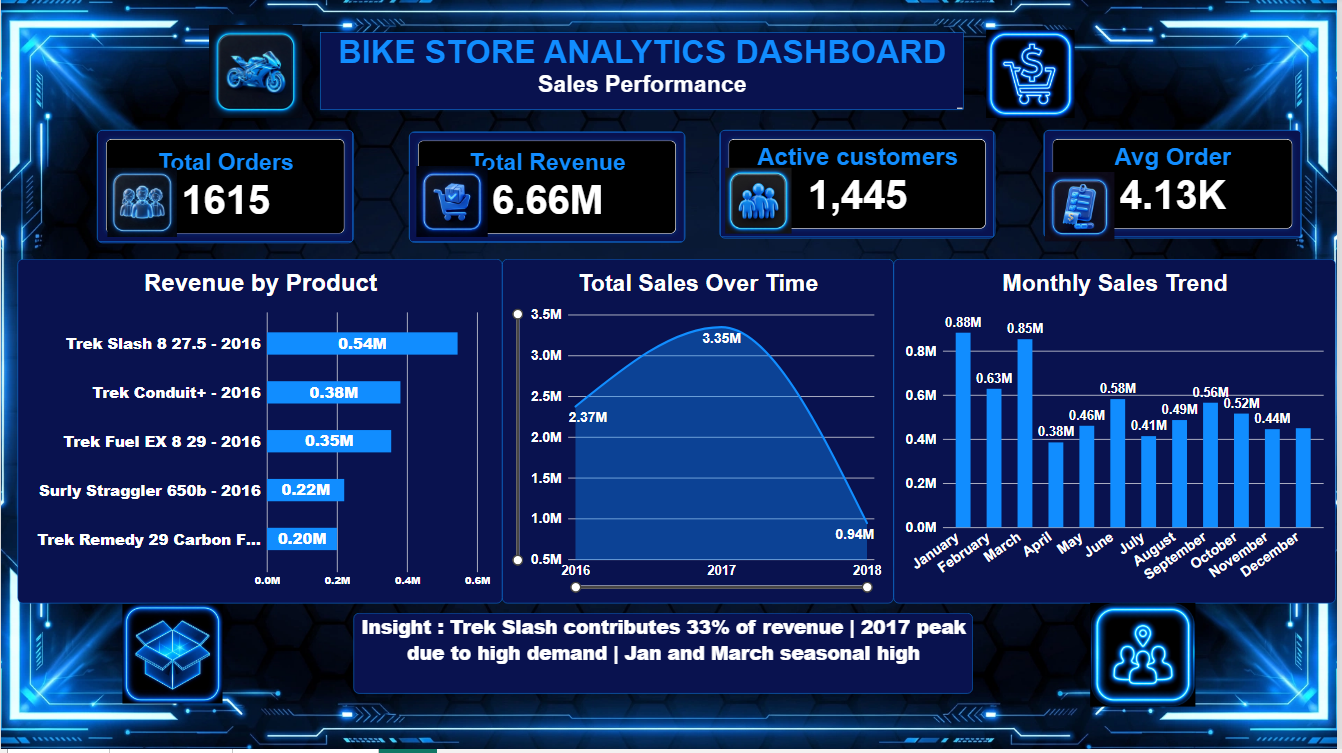

The page's visual inventory and layout, read from the dashboard file:
{"tool":"powerbi","page":{"name":"Sales","canvas":[1920,1080],"ordinal":0},"visuals":[{"type":"cardVisual","fields":{"Data":["brands.Total Revenue"]},"box":[586.7,192,397.5,160],"z":0},{"type":"cardVisual","fields":{"Data":["brands.Total Orders Text"]},"box":[138.1,189.8,369.2,162.8],"z":1000},{"type":"lineChart","title":"Total Sales Over Time","fields":{"Category":["new.order_date.Variation.Date Hierarchy.Year","new.order_date.Variation.Date Hierarchy.Month"],"Y":["brands.Total Revenue"]},"box":[720,374.8,563.3,495.1],"z":2000},{"type":"clusteredColumnChart","title":"Monthly Sales Trend","fields":{"Category":["new.order_date.Variation.Date Hierarchy.Month","new.order_date.Variation.Date Hierarchy.Day"],"Y":["brands.Total Revenue"]},"box":[1283.3,374.8,636,495.1],"z":3000},{"type":"textbox","title":"BIKE STORE ANALYTICS DASHBOARD","box":[458.8,50,924.4,111.3],"z":4000},{"type":"cardVisual","title":"Active Customers","fields":{"Data":["brands.Active customers full"]},"box":[1033.3,189.8,396.7,155.9],"z":5000},{"type":"cardVisual","fields":{"Data":["brands.avg order"]},"box":[1499.6,190.3,371.5,155.9],"z":6000},{"type":"image","box":[114.3,243.8,177.2,99.9],"z":7000},{"type":"image","box":[576,241.6,145.4,102.2],"z":8000},{"type":"image","box":[1000.9,243.8,177.2,95.4],"z":9000},{"type":"image","box":[1462.7,249.8,177.2,99.9],"z":10000},{"type":"image","box":[290.7,38.6,149.9,134],"z":11000},{"type":"clusteredBarChart","title":"Revenue by Product","fields":{"Category":["products.product_name"],"Y":["brands.Total Revenue"]},"box":[22.7,374.8,697.3,495.1],"z":12000},{"type":"image","box":[1362.8,45.4,233.9,127.2],"z":13000},{"type":"image","box":[127.2,872.2,238.5,143.1],"z":14000},{"type":"image","box":[1551.3,869.9,181.7,149.9],"z":15000},{"type":"textbox","title":"Insight : Trek Slash contributes 33% of revenue | 2017 peak due to high demand | Jan and March seasonal high","box":[506.5,883.5,890.4,115.8],"z":16000}]}

Visuals, with their boxes in screenshot pixels (x1, y1, x2, y2), scaled from the page's 1920x1080 canvas onto the 1342x753 screenshot:
cardVisual - brands.Total Revenue: [410, 134, 688, 245]
cardVisual - brands.Total Orders Text: [97, 132, 355, 246]
"Total Sales Over Time" lineChart: [503, 261, 897, 607]
"Monthly Sales Trend" clusteredColumnChart: [897, 261, 1341, 607]
"BIKE STORE ANALYTICS DASHBOARD" textbox: [321, 35, 967, 112]
"Active Customers" cardVisual: [722, 132, 1000, 241]
cardVisual - brands.avg order: [1048, 133, 1308, 241]
image: [80, 170, 204, 240]
image: [403, 168, 504, 240]
image: [700, 170, 823, 236]
image: [1022, 174, 1146, 244]
image: [203, 27, 308, 120]
"Revenue by Product" clusteredBarChart: [16, 261, 503, 607]
image: [953, 32, 1116, 120]
image: [89, 608, 256, 708]
image: [1084, 607, 1211, 711]
"Insight : Trek Slash contributes 33% of revenue | 2017 peak due to high demand | Jan and March seasonal high" textbox: [354, 616, 976, 697]
